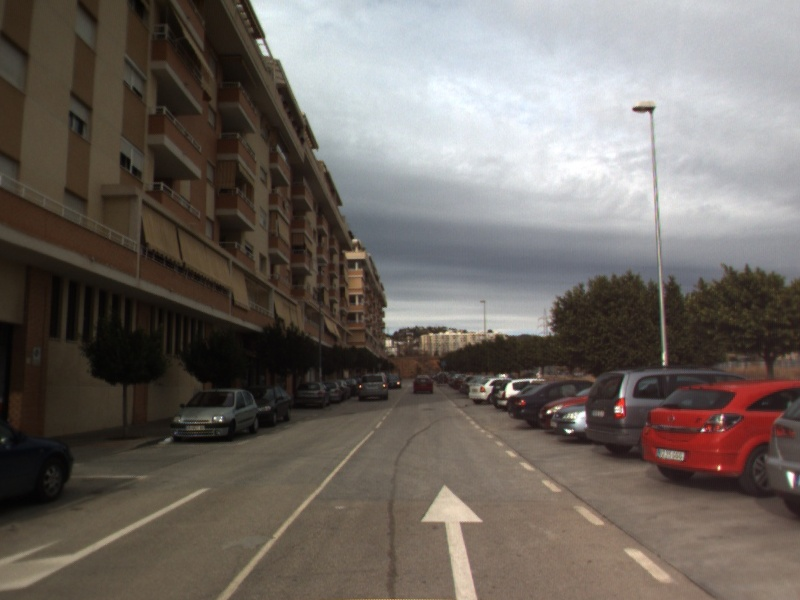STRAIGHT: (418, 482, 486, 600)
